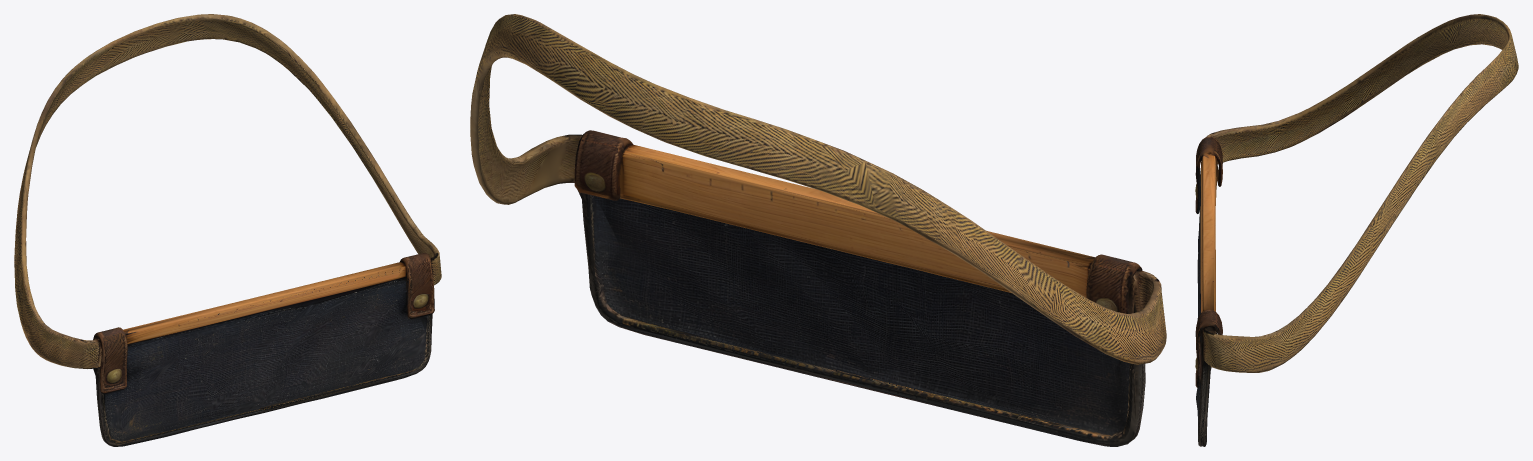
Rendered from BeltBody-game-v1.glb.
The picture shows the model from 3 angles, left to right: view 1: azimuth 30°, elevation 25°; view 2: azimuth 150°, elevation 25°; view 3: azimuth 270°, elevation 25°; orthographic projection. The views are drawn at different scales.
Visible parts, largest first — view 1: BeltBody; view 2: BeltBody; view 3: BeltBody.
Part boxes in pixels (box(x1,y1,x2,y2)): BeltBody: box(14, 14, 441, 446); BeltBody: box(470, 14, 1166, 446); BeltBody: box(1195, 14, 1518, 446).
Size of the model in its own units: 0.3501 by 0.2494 by 0.2171.
Materials: 1 (1 with a texture image).
